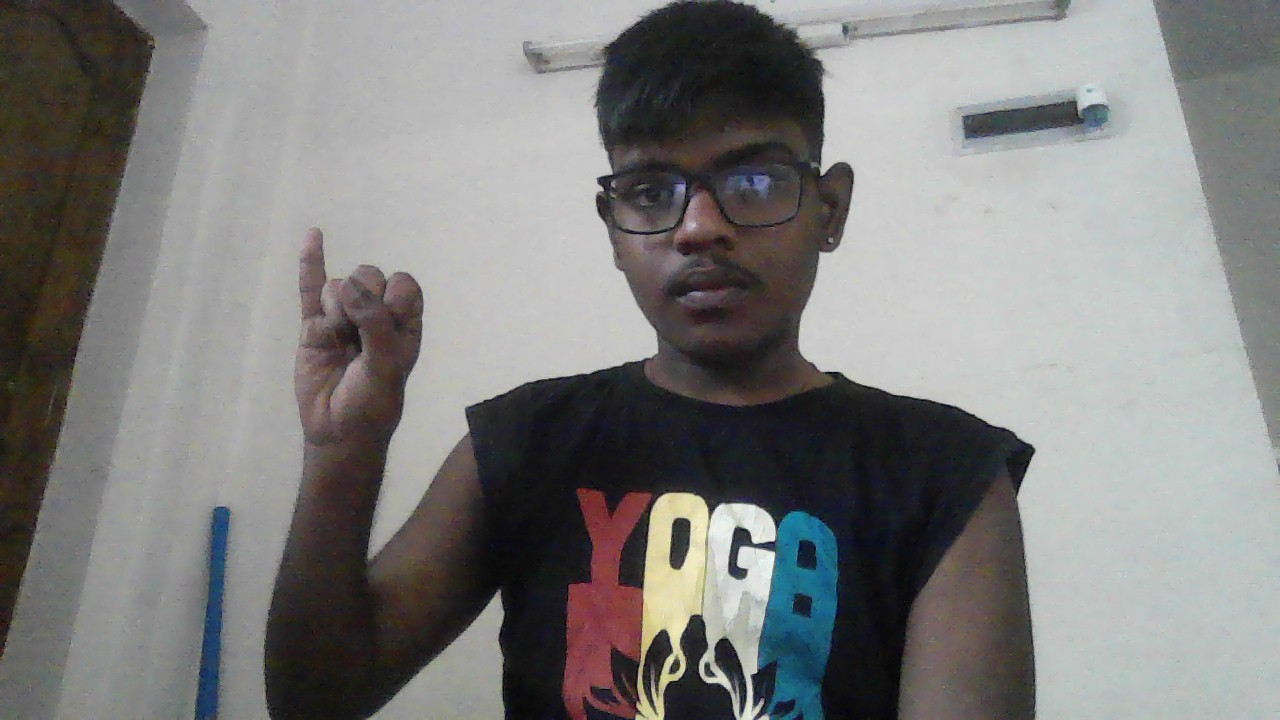I: (294, 226, 424, 450)
